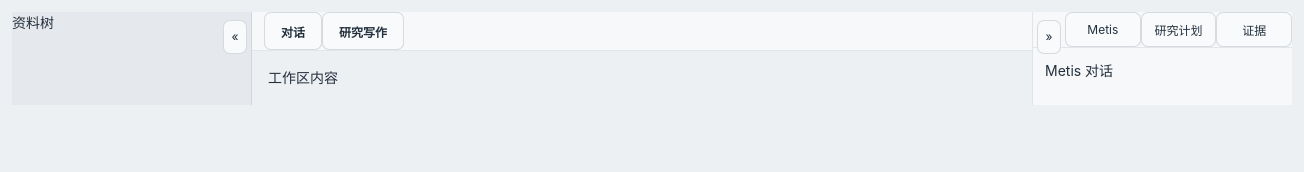
Test case: METIS-501 ProjectShell — collapse behavior › left collapse button toggles the panel and shell layout class
Expected: the text "资料树" is shown, [12,14,54,31]
Click the button named "收起资料栏": (235, 37) [223,20,247,54]
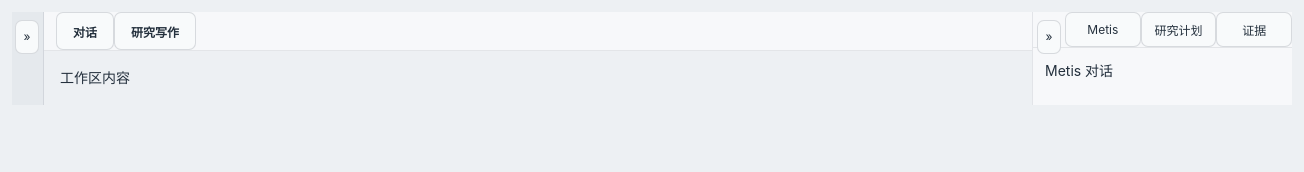
Expected: the text with test id "left-content" is gone
Click the button named "展开资料栏": (27, 37) [15,20,39,54]
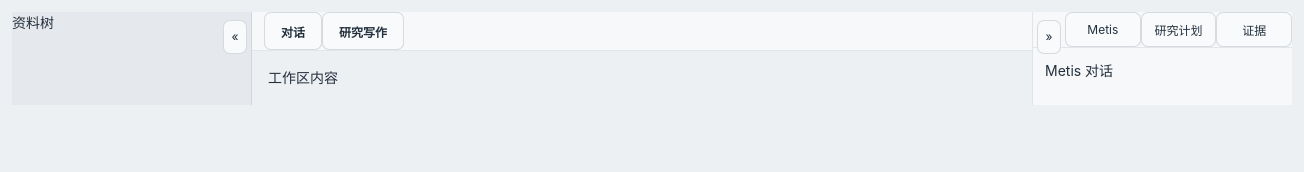
Expected: the text "资料树" is shown, [12,14,54,31]
